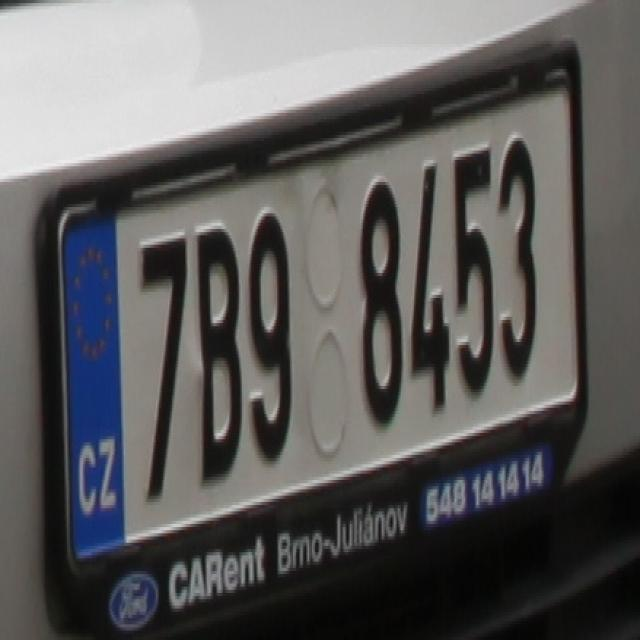3: (499, 129, 538, 370)
4: (408, 157, 448, 398)
5: (453, 144, 493, 392)
7: (136, 226, 188, 489)
8: (358, 175, 406, 424)
9: (248, 207, 291, 455)
B: (194, 217, 245, 483)
